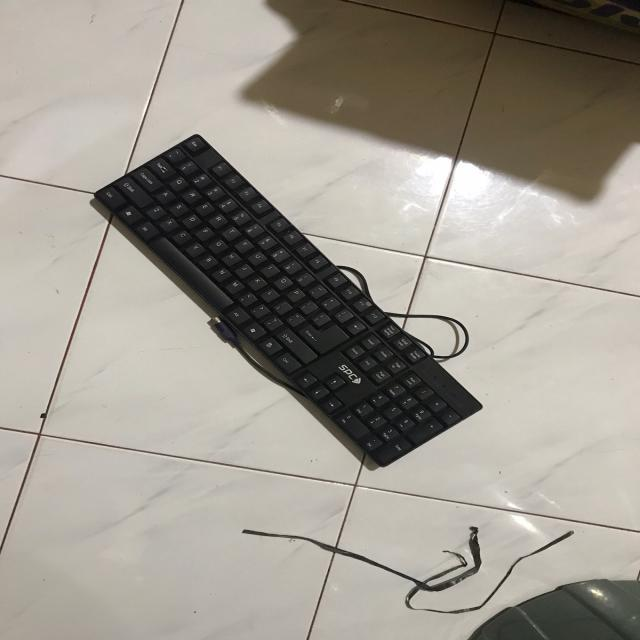-mouse-: (87, 133, 484, 466)
